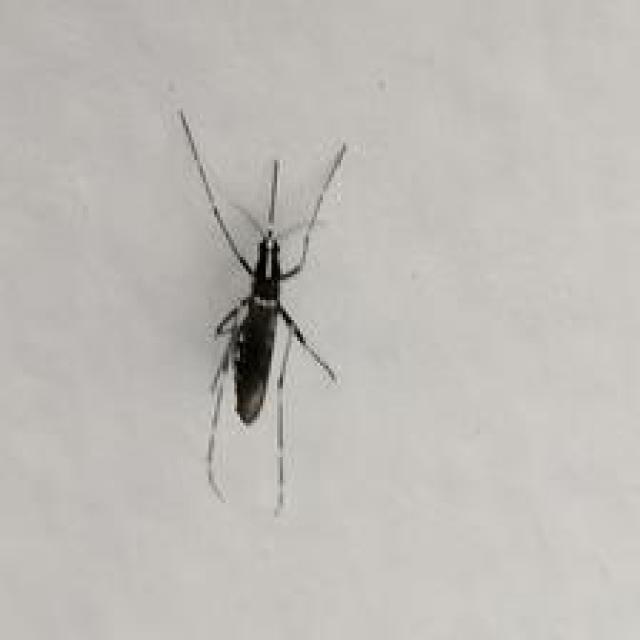Aedes albopictus: (174, 107, 349, 516)
